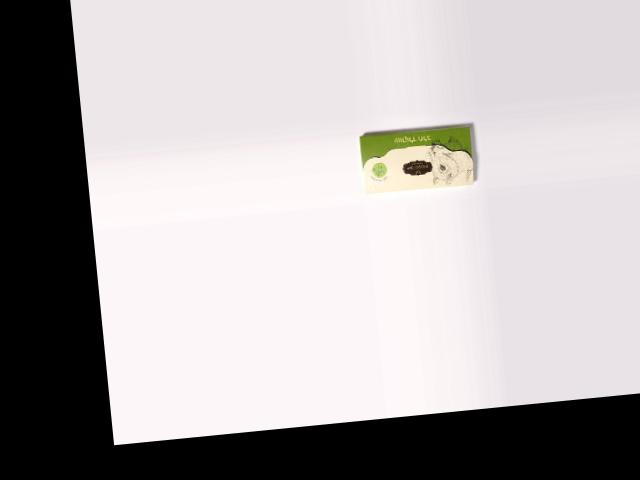chocolate: (357, 123, 476, 196)
